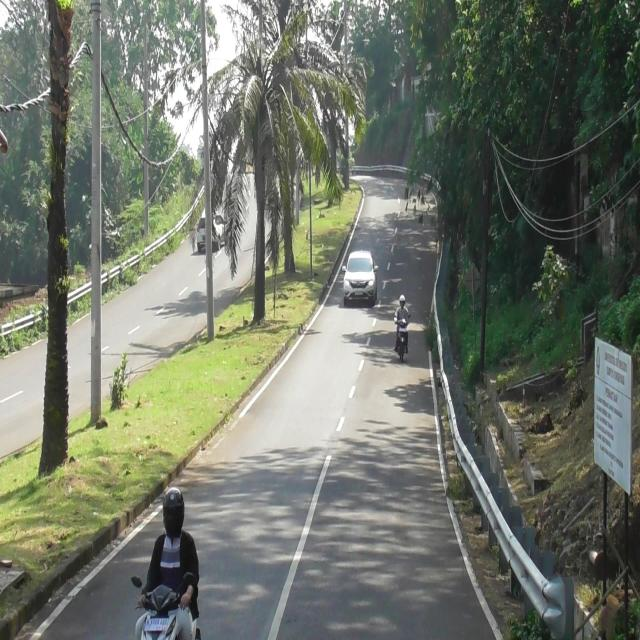motorcycle: (132, 570, 198, 640), (397, 316, 410, 362)
person: (138, 486, 196, 637), (393, 296, 411, 324)
rider_region: (138, 489, 202, 640), (394, 294, 411, 364)
